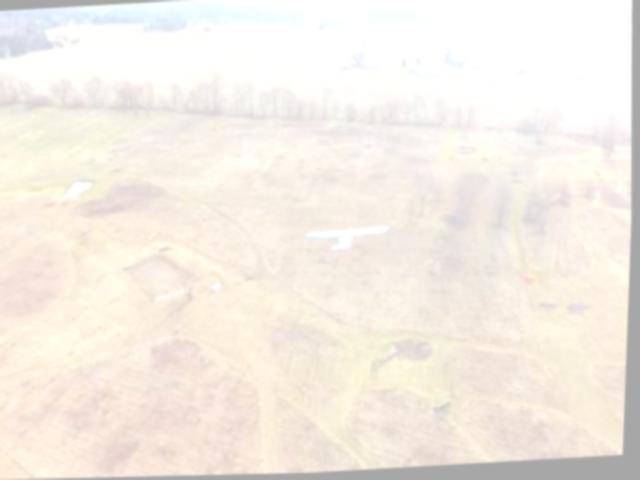uav: (300, 206, 401, 265)
